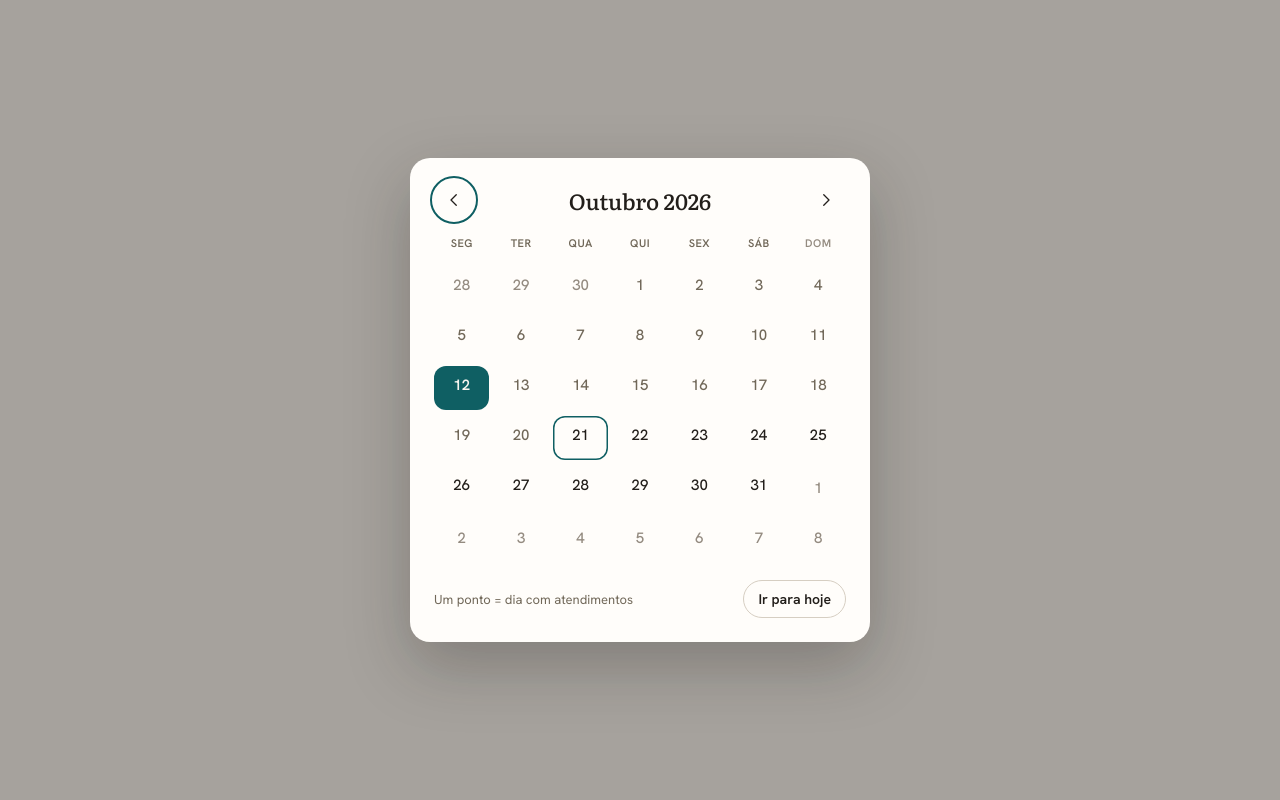
Test case: mini calendário da Agenda › com a API, o passo de mês desliza na direção do passo
Click the button named "Ver mês anterior".
click(454, 200)  # box [434,180,474,220]
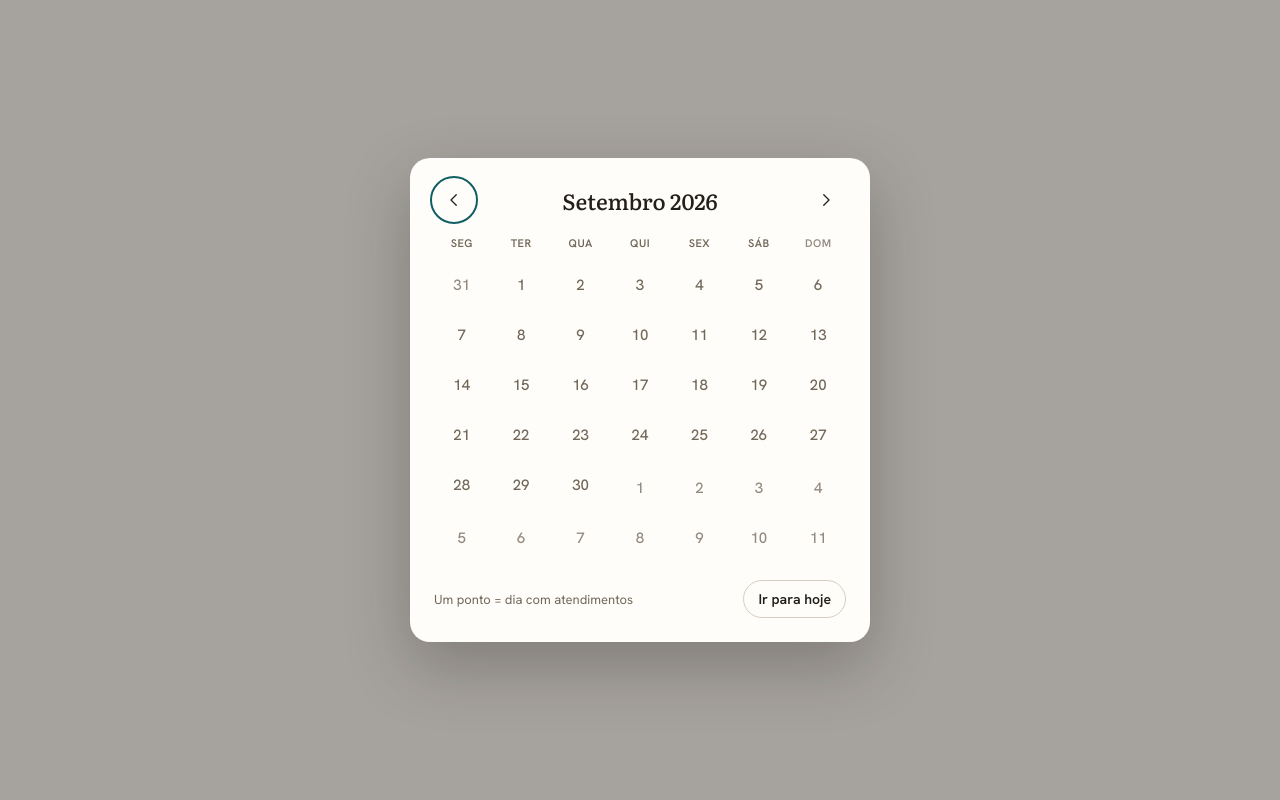
Expected: the text "Setembro 2026" is shown, [562,184,718,216]
